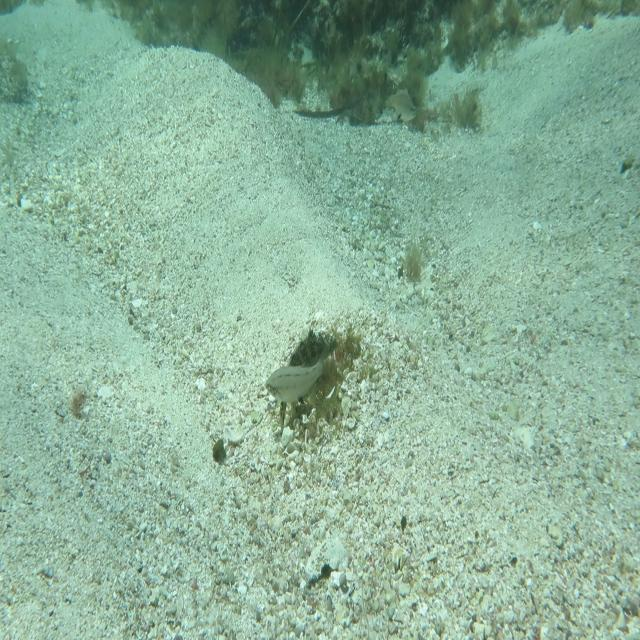DAN_CIRC: (277, 320, 341, 438)
female: (264, 341, 338, 409)
nest: (277, 317, 366, 435)
vegetation: (104, 0, 542, 45), (216, 46, 425, 94), (400, 239, 426, 284), (210, 434, 231, 466)
